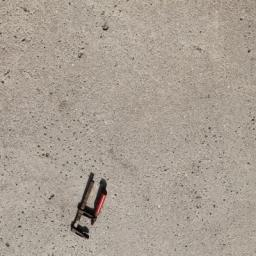FOD: (69, 169, 111, 244)
